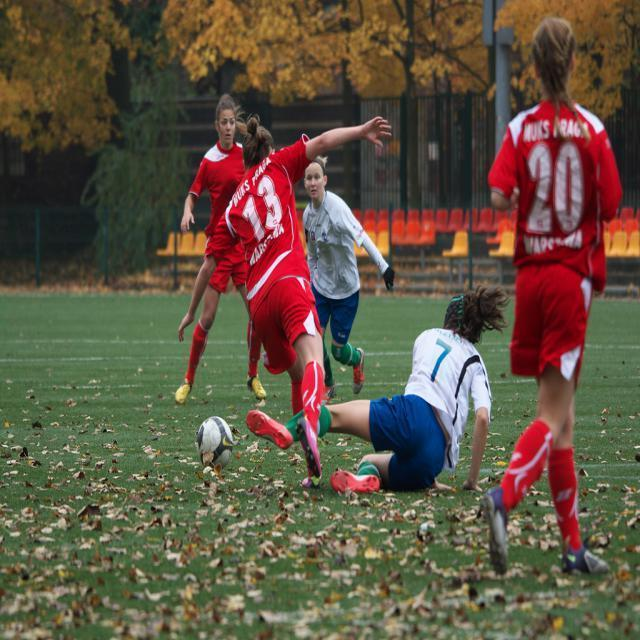ball: (198, 416, 234, 473)
